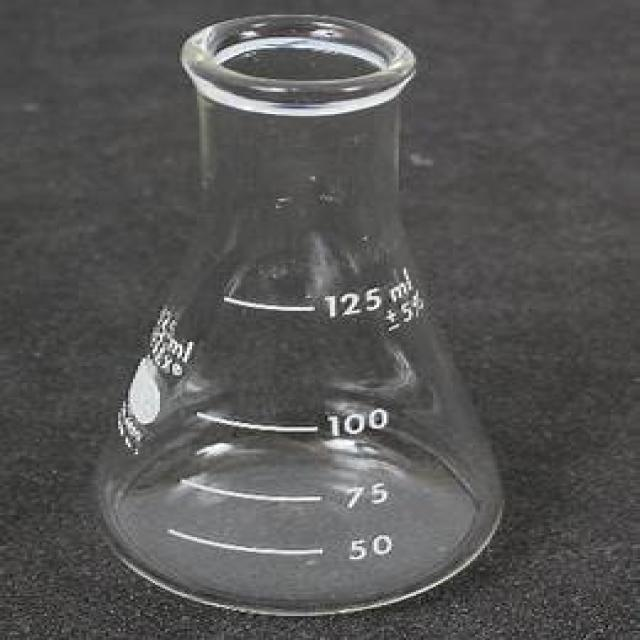Titrarion: (99, 23, 507, 613)
